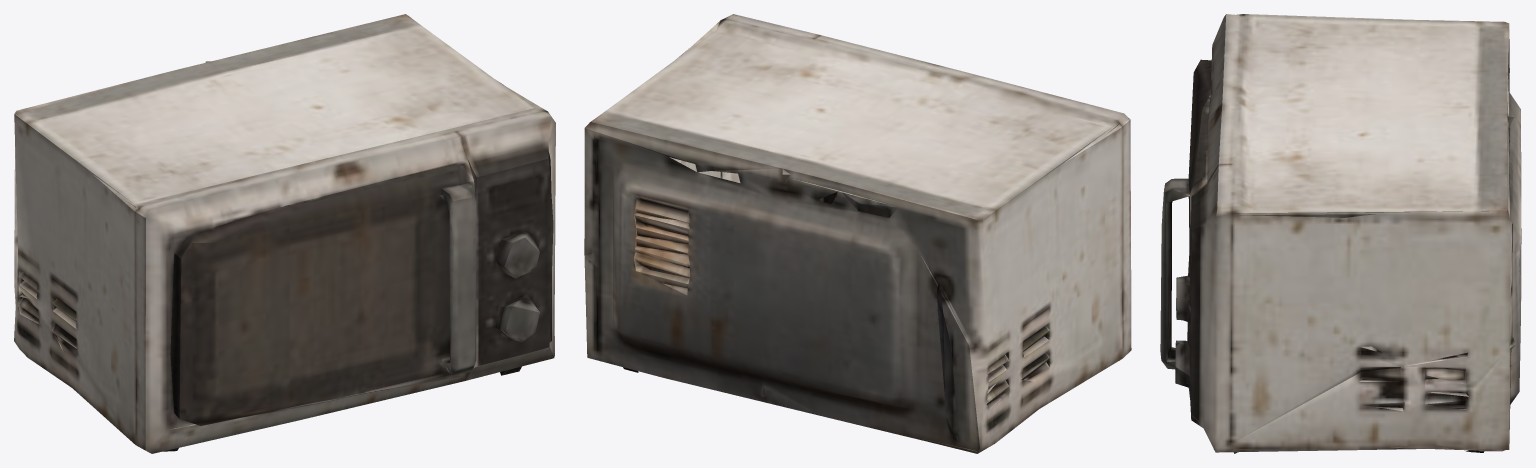
Rendered from p7-microwave-oven.glb.
3 views of the same model, side by side, from view 1: azimuth 30°, elevation 25°; view 2: azimuth 150°, elevation 25°; view 3: azimuth 270°, elevation 25° (orthographic).
Visible parts, largest first — view 1: p7-microwave-oven; view 2: p7-microwave-oven; view 3: p7-microwave-oven.
Boxes of the visible parts, x1,y1,x2,y2 form: p7-microwave-oven: (14,14,555,453); p7-microwave-oven: (584,14,1131,453); p7-microwave-oven: (1160,14,1521,453).
Bounding box in the file's own units: 0.5 × 0.3 × 0.38.
1 material, 1 textured.
